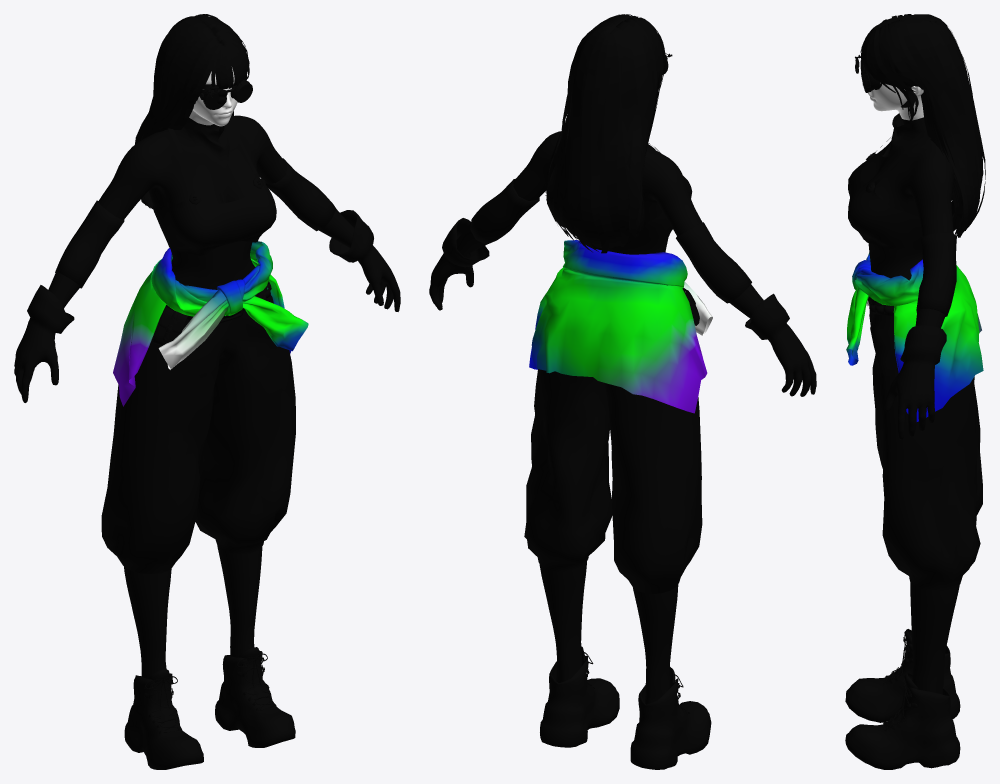
Rendered from SK_MechanicGirl_04.obj.
The picture shows the model from 3 angles, left to right: view 1: azimuth 30°, elevation 25°; view 2: azimuth 150°, elevation 25°; view 3: azimuth 270°, elevation 25°; orthographic projection.
Parts seen in each view (by area): view 1: SK_MECHANICGIRL_PANTS, SK_MECHANICGIRL_BODY_CUT, SK_MECHANICGIRL_SHIRT, SK_MECHANICGIRL_SHOES, SK_MECHANICGIRL_HAIR_LOOSE, SK_MECHANICGIRL_TOP, SK_MECHANICGIRL_GLOVES, SK_MECHANICGIRL_ELBOWS, SK_MECHANICGIRL_SCARF, SK_MECHANICGIRL_BELT, SK_MECHANICGIRL_HEAD, SK_MECHANICGIRL_GLASSES_DOWN; view 2: SK_MECHANICGIRL_PANTS, SK_MECHANICGIRL_SHIRT, SK_MECHANICGIRL_HAIR_LOOSE, SK_MECHANICGIRL_BODY_CUT, SK_MECHANICGIRL_SHOES, SK_MECHANICGIRL_GLOVES, SK_MECHANICGIRL_ELBOWS, SK_MECHANICGIRL_TOP; view 3: SK_MECHANICGIRL_PANTS, SK_MECHANICGIRL_HAIR_LOOSE, SK_MECHANICGIRL_BODY_CUT, SK_MECHANICGIRL_SHOES, SK_MECHANICGIRL_SHIRT, SK_MECHANICGIRL_GLOVES, SK_MECHANICGIRL_TOP, SK_MECHANICGIRL_ELBOWS, SK_MECHANICGIRL_HEAD, SK_MECHANICGIRL_SCARF, SK_MECHANICGIRL_GLASSES_DOWN, SK_MECHANICGIRL_BELT.
Part boxes in pixels (x1,y1,x2,y2): SK_MECHANICGIRL_PANTS: (101,264,295,573); SK_MECHANICGIRL_BODY_CUT: (48,115,354,678); SK_MECHANICGIRL_SHIRT: (113,241,308,406); SK_MECHANICGIRL_SHOES: (124,647,295,769); SK_MECHANICGIRL_HAIR_LOOSE: (135,14,249,209); SK_MECHANICGIRL_TOP: (152,121,276,255); SK_MECHANICGIRL_GLOVES: (14,210,400,402); SK_MECHANICGIRL_ELBOWS: (55,158,336,288); SK_MECHANICGIRL_SCARF: (184,118,229,168); SK_MECHANICGIRL_BELT: (153,281,271,345); SK_MECHANICGIRL_HEAD: (189,67,237,126); SK_MECHANICGIRL_GLASSES_DOWN: (199,79,252,109); SK_MECHANICGIRL_PANTS: (524,285,702,593); SK_MECHANICGIRL_SHIRT: (529,240,712,413); SK_MECHANICGIRL_HAIR_LOOSE: (545,14,665,253); SK_MECHANICGIRL_BODY_CUT: (456,131,763,704); SK_MECHANICGIRL_SHOES: (540,646,711,769); SK_MECHANICGIRL_GLOVES: (429,218,816,396); SK_MECHANICGIRL_ELBOWS: (470,179,751,303); SK_MECHANICGIRL_TOP: (614,143,692,249); SK_MECHANICGIRL_PANTS: (869,312,982,590); SK_MECHANICGIRL_HAIR_LOOSE: (860,14,985,237); SK_MECHANICGIRL_BODY_CUT: (860,117,959,694); SK_MECHANICGIRL_SHOES: (845,629,960,769); SK_MECHANICGIRL_SHIRT: (846,253,983,421); SK_MECHANICGIRL_GLOVES: (884,325,946,439); SK_MECHANICGIRL_TOP: (848,137,954,252); SK_MECHANICGIRL_ELBOWS: (916,232,956,316); SK_MECHANICGIRL_HEAD: (862,82,923,120); SK_MECHANICGIRL_SCARF: (882,113,926,157); SK_MECHANICGIRL_GLASSES_DOWN: (855,55,881,92); SK_MECHANICGIRL_BELT: (868,296,894,315).
Bounding box in the file's own units: 98.33 × 179 × 31.6.
